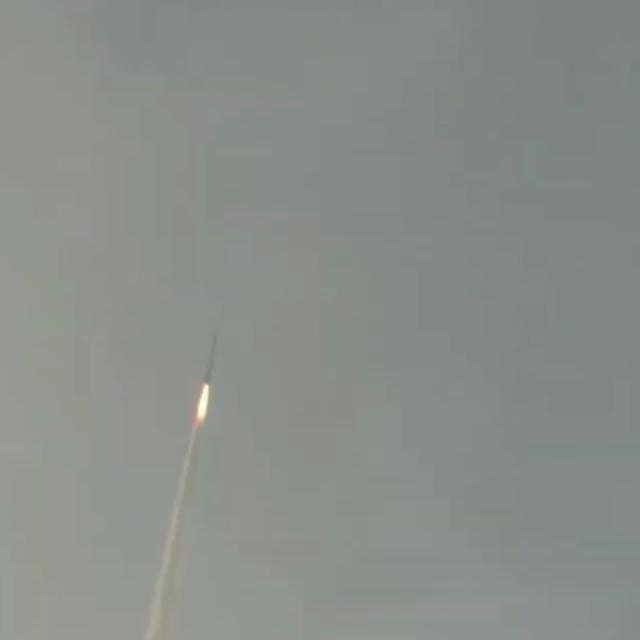smoke_trail_with_rocket: (143, 335, 217, 640)
